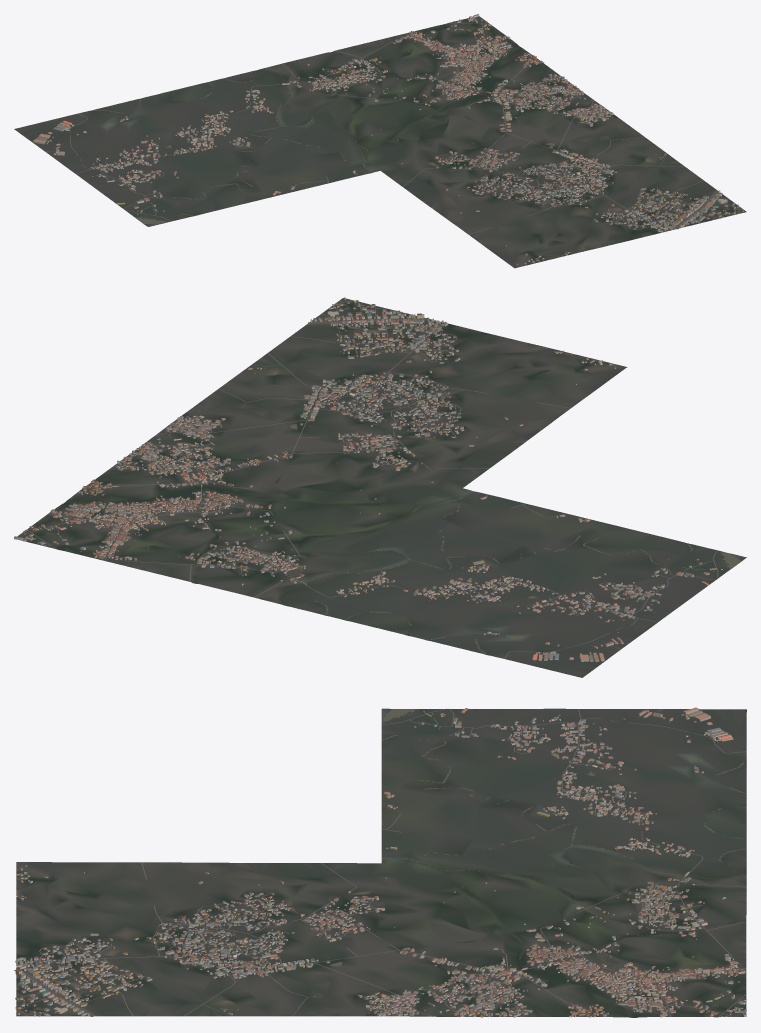
The picture shows the model from 3 angles, top to bottom: view 1: azimuth 30°, elevation 25°; view 2: azimuth 150°, elevation 25°; view 3: azimuth 270°, elevation 25°; orthographic projection. The views are drawn at different scales.
Visible parts, largest first — view 1: ground, buildings, roads, water; view 2: ground, buildings, roads, water; view 3: ground, buildings, roads, water.
Part boxes in pixels (x1,y1,x2,y2): ground: [14, 16, 746, 268]; buildings: [33, 14, 744, 264]; roads: [69, 19, 742, 265]; water: [94, 24, 554, 223]; ground: [17, 298, 746, 677]; buildings: [14, 297, 722, 661]; roads: [21, 300, 718, 658]; water: [27, 424, 741, 653]; ground: [16, 708, 746, 1017]; buildings: [15, 707, 746, 1017]; roads: [14, 708, 746, 1016]; water: [330, 709, 746, 1016].
Size of the model in its own units: 2808 by 27.83 by 2815.
